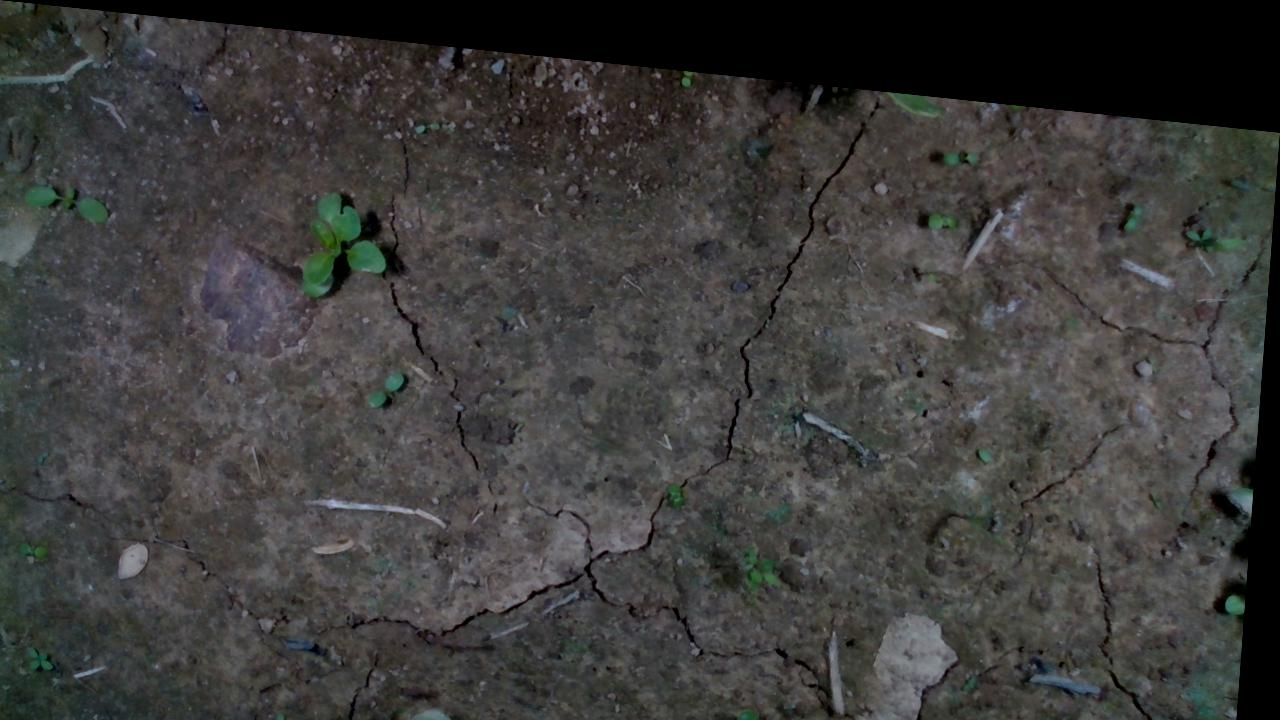weed: (21, 181, 114, 221), (722, 687, 800, 719), (369, 357, 411, 401), (941, 127, 982, 147), (926, 189, 960, 210), (669, 466, 692, 491)
